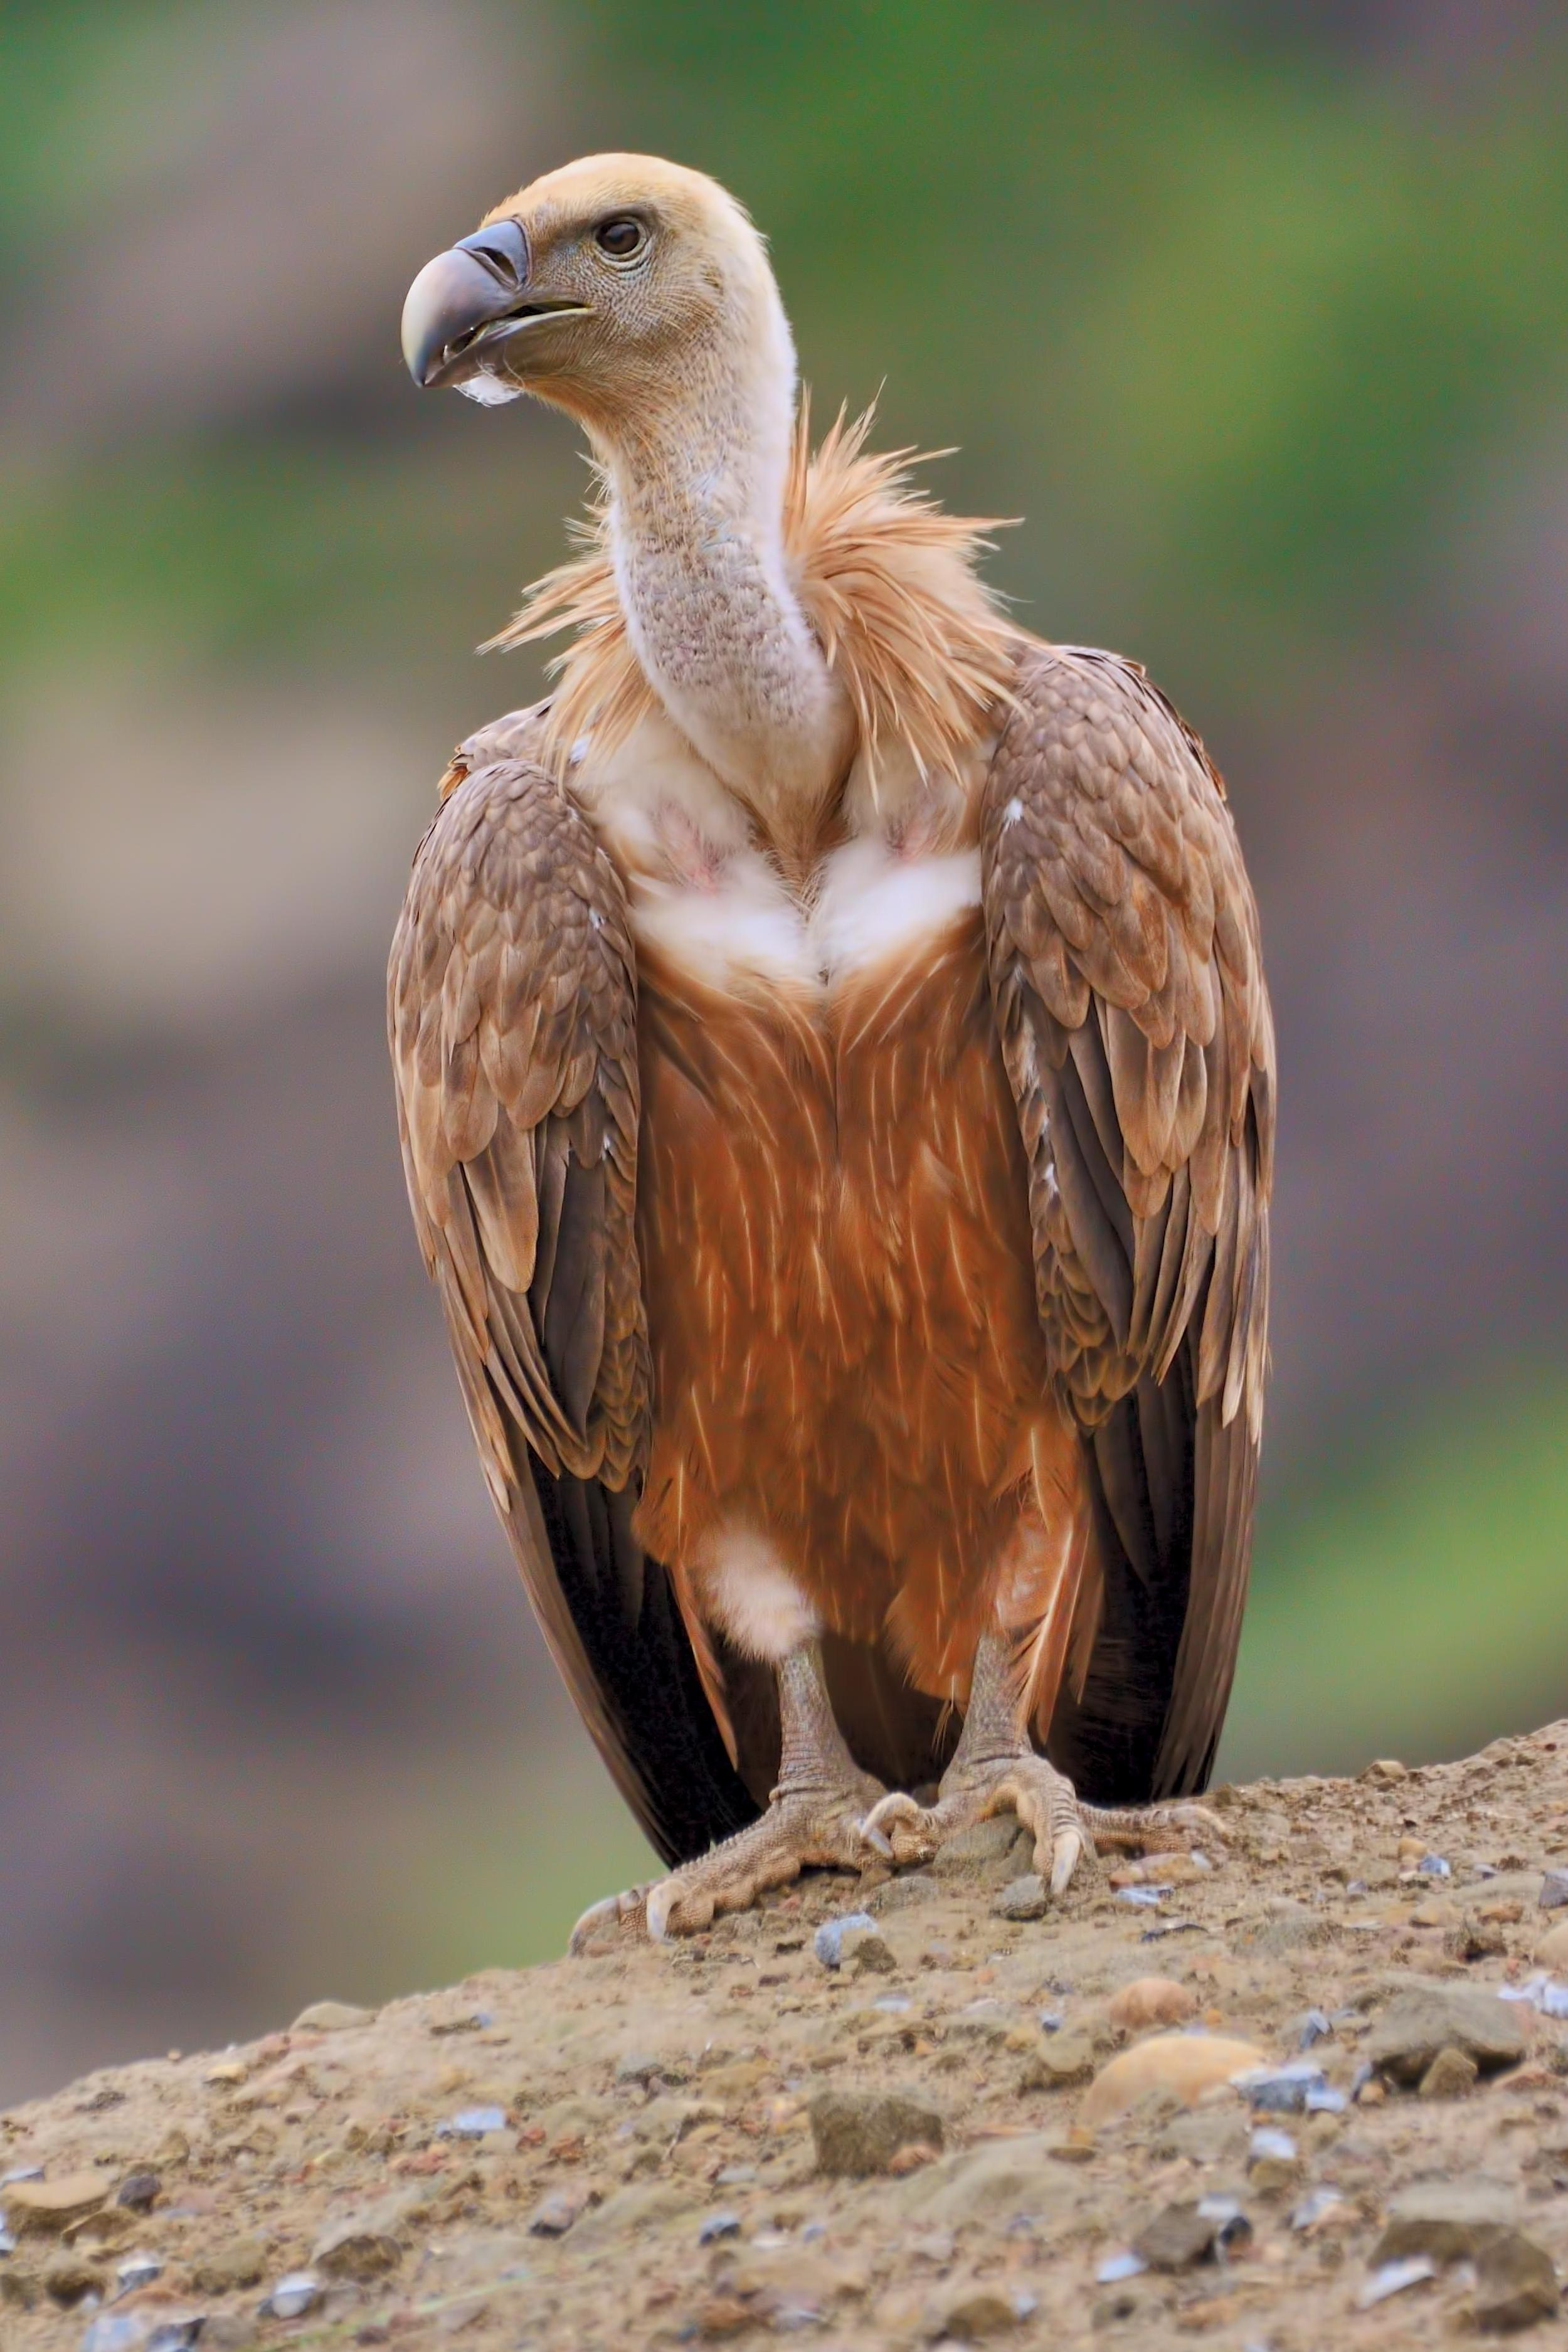Pengoyak Daging: (361, 236, 523, 415)
